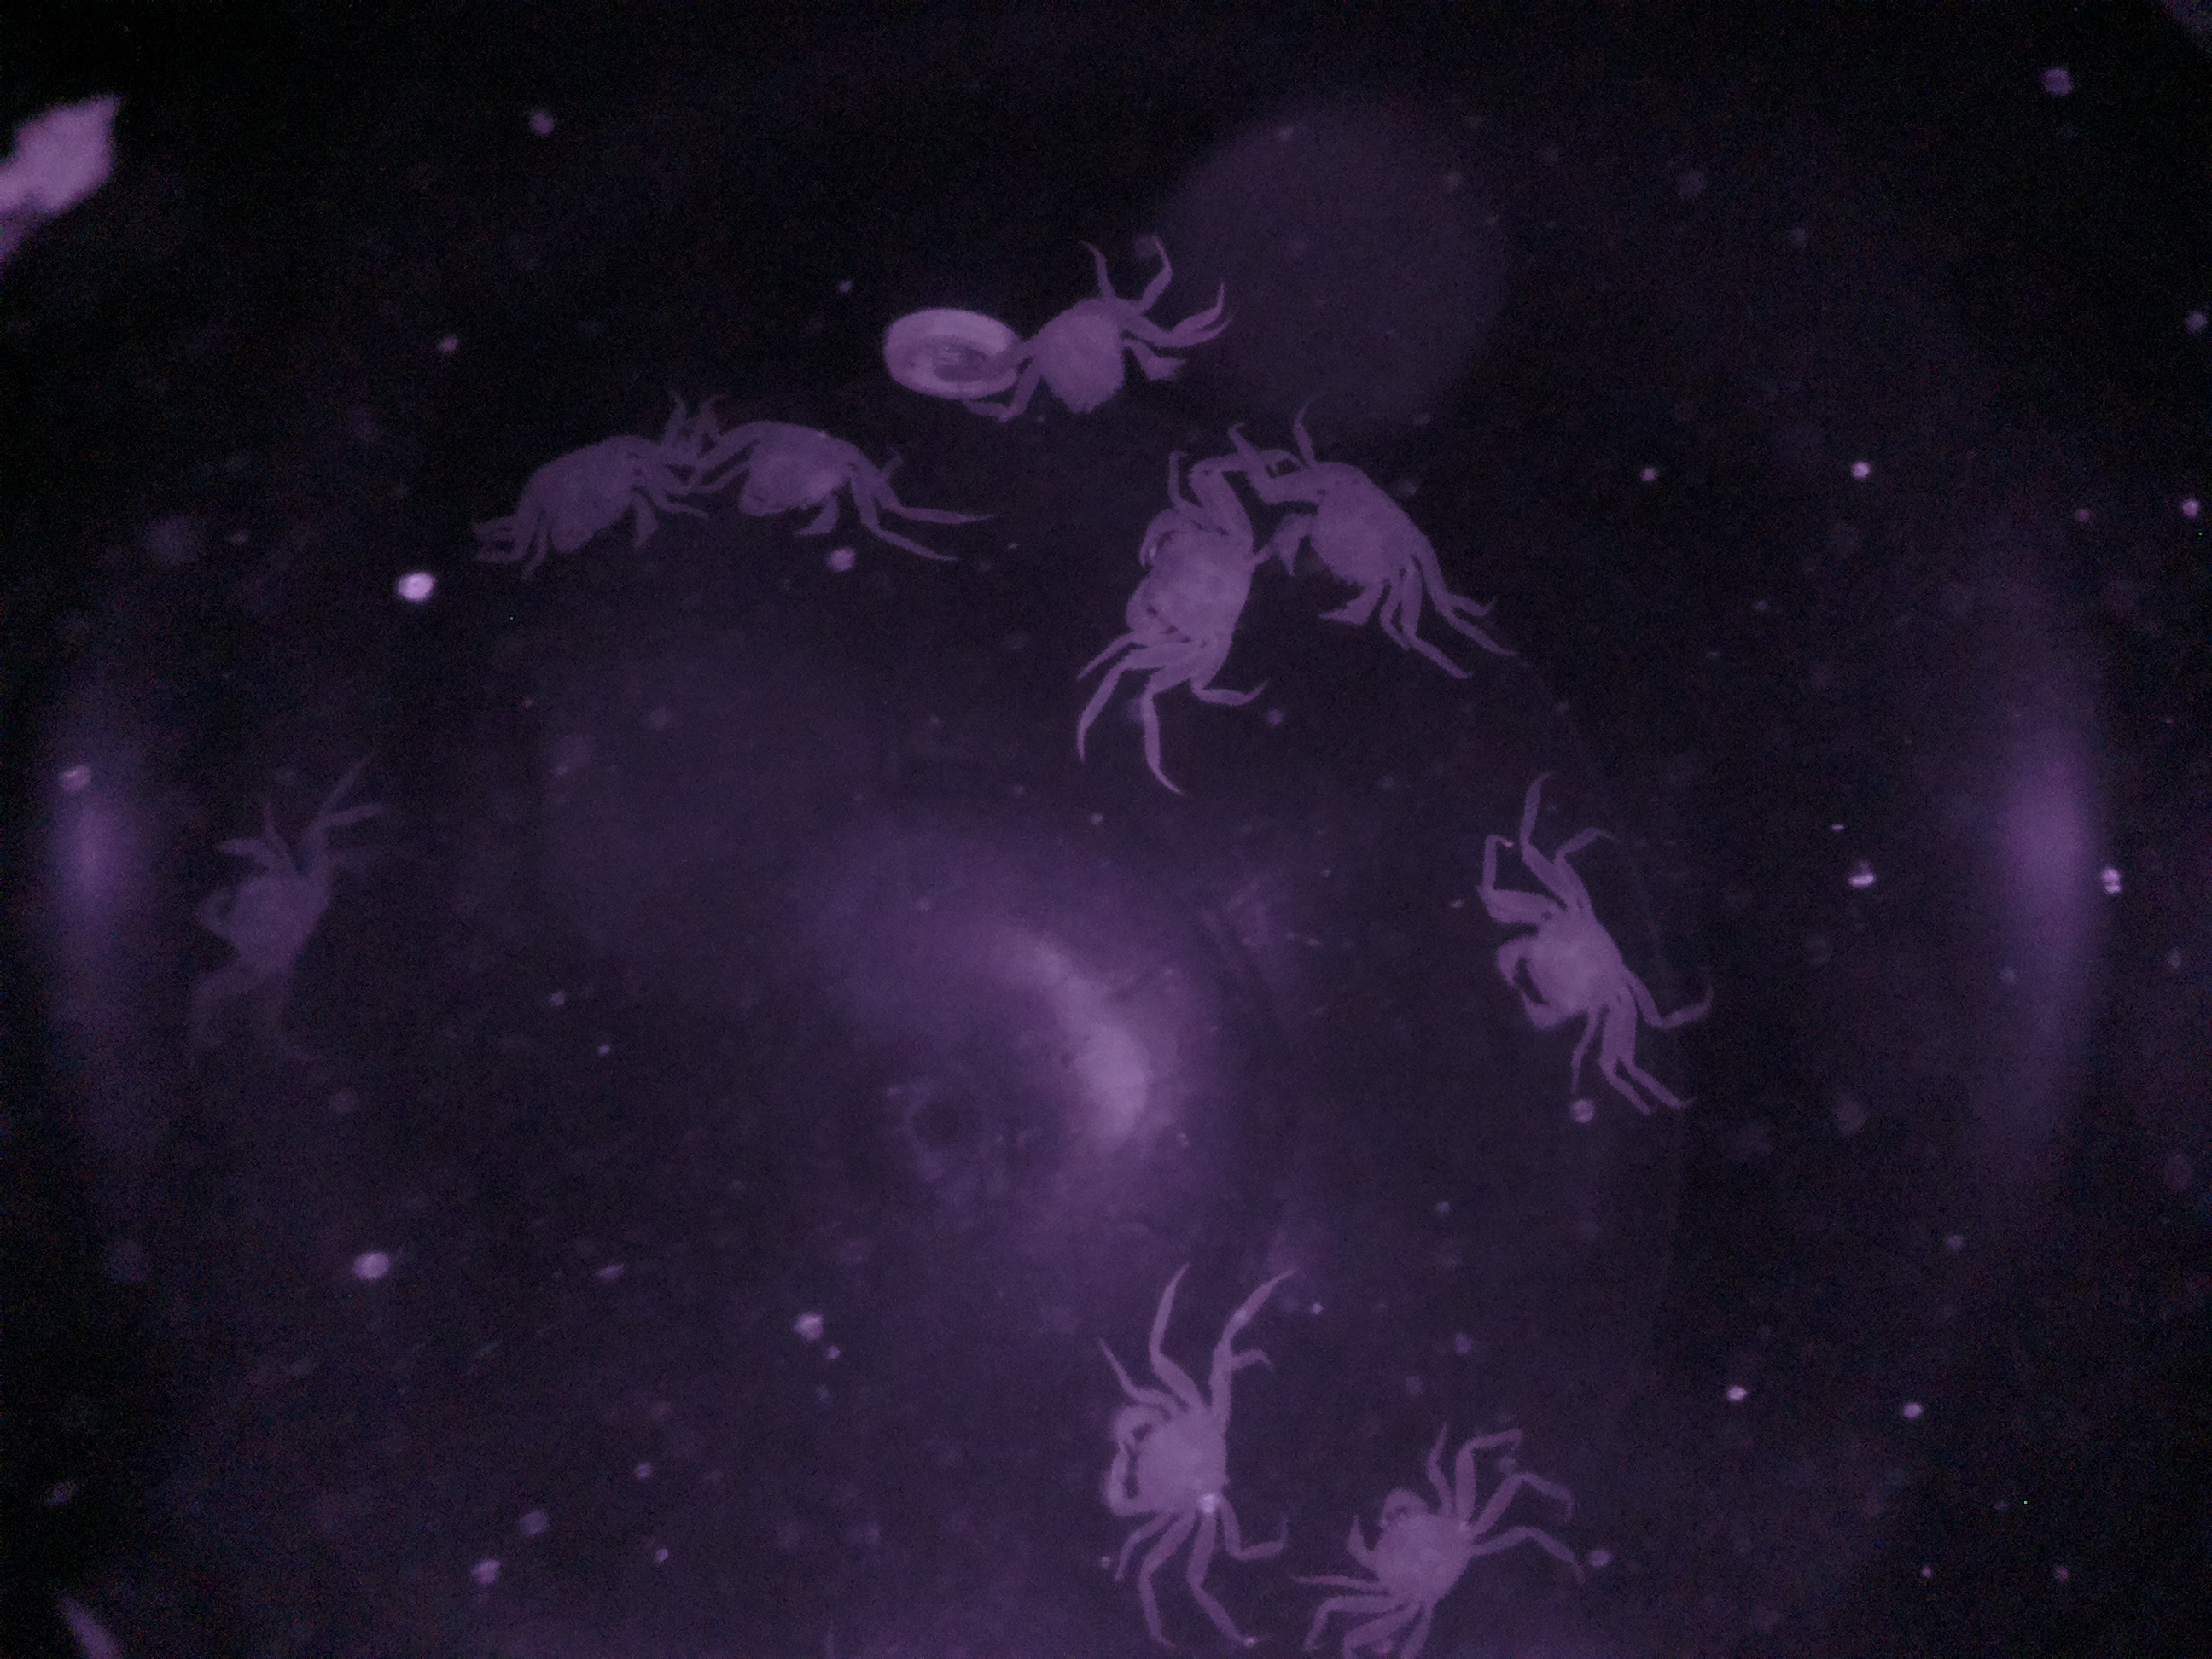Crab: (1470, 840, 1658, 1110), (702, 387, 942, 579), (1089, 1333, 1258, 1595), (1256, 432, 1465, 643), (482, 408, 704, 582), (1327, 1445, 1507, 1647)
